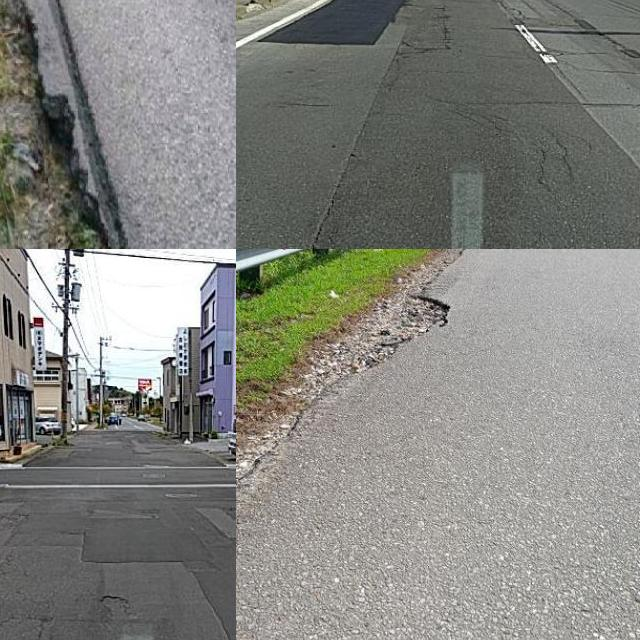Pinggir: (236, 249, 478, 572), (0, 0, 137, 249)
Sambungan: (314, 9, 640, 249), (85, 502, 236, 640), (263, 0, 407, 46)
